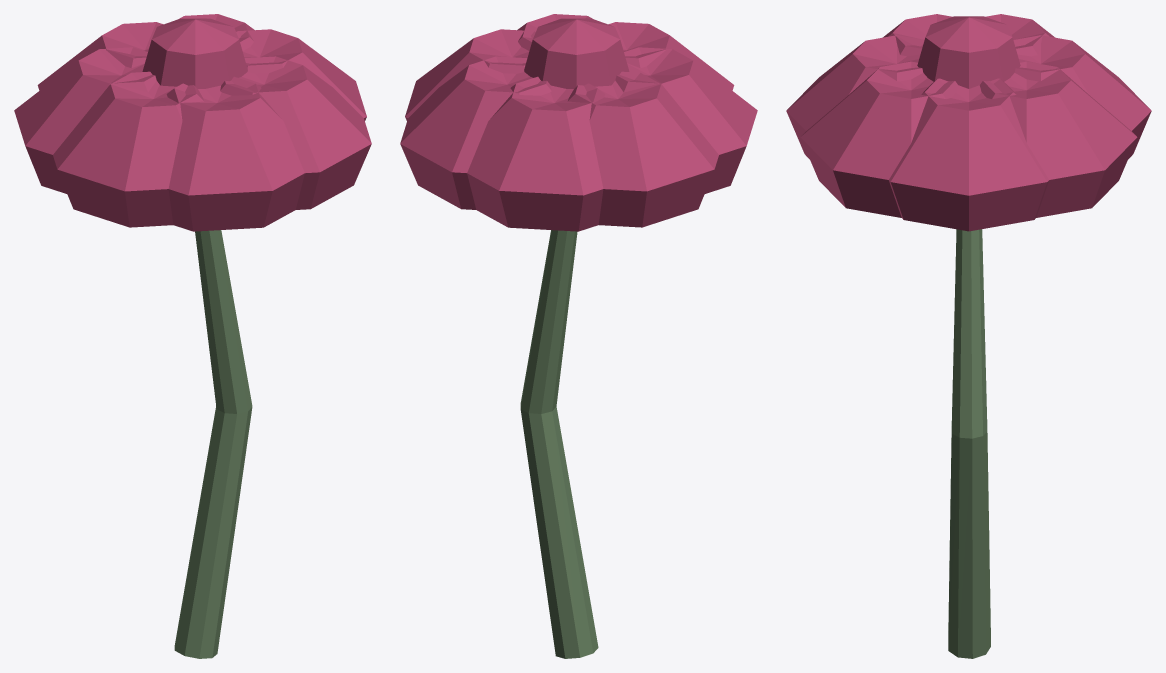
The model's file is Rose.obj.
3 renders of one model, left to right at view 1: azimuth 30°, elevation 25°; view 2: azimuth 150°, elevation 25°; view 3: azimuth 270°, elevation 25°, orthographic.
Parts seen in each view (by area): view 1: Rose; view 2: Rose; view 3: Rose.
Boxes of the visible parts, x1,y1,x2,y2 form: Rose: (14, 14, 371, 658); Rose: (400, 14, 757, 658); Rose: (786, 14, 1151, 658).
Bounding box in the file's own units: 0.9802 × 1.89 × 0.99.
